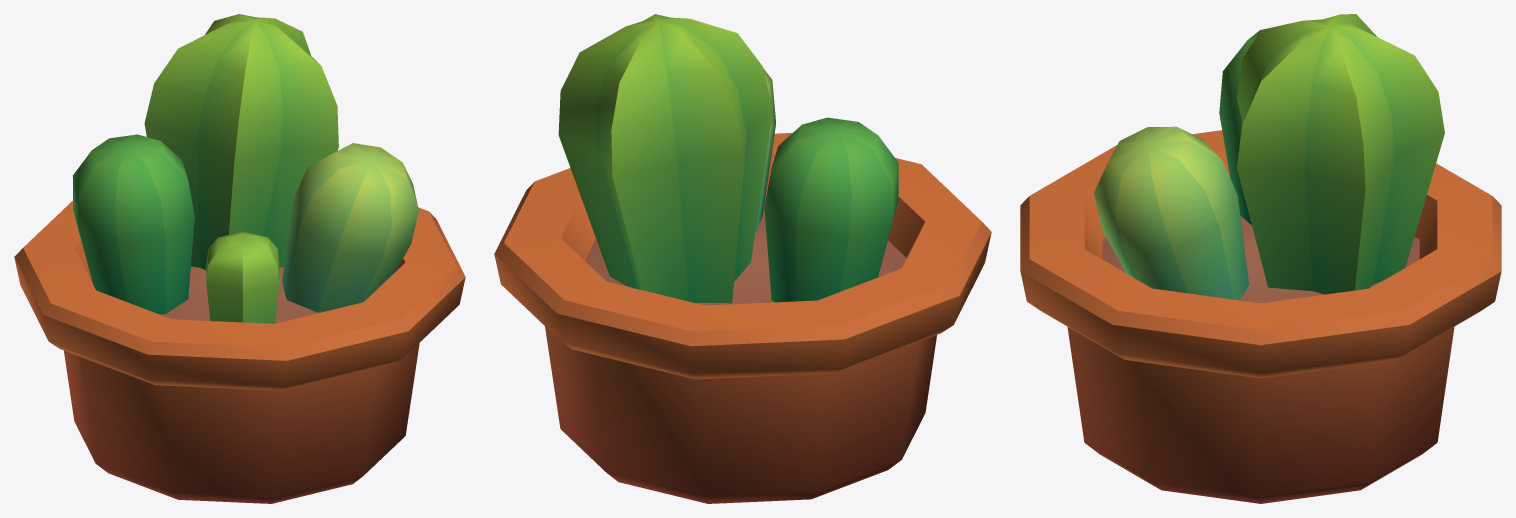
File: plant.glb
3 renders of one model, left to right at view 1: azimuth 30°, elevation 25°; view 2: azimuth 150°, elevation 25°; view 3: azimuth 270°, elevation 25°, orthographic. The views are drawn at different scales.
Parts seen in each view (by area): view 1: cactus_medium_A; view 2: cactus_medium_A; view 3: cactus_medium_A.
Boxes of the visible parts, x1,y1,x2,y2 form: cactus_medium_A: (14,14,465,503); cactus_medium_A: (494,14,991,503); cactus_medium_A: (1020,14,1501,503).
Size of the model in its own units: 0.8799 by 0.8272 by 0.8368.
Materials: 1 (1 with a texture image).
